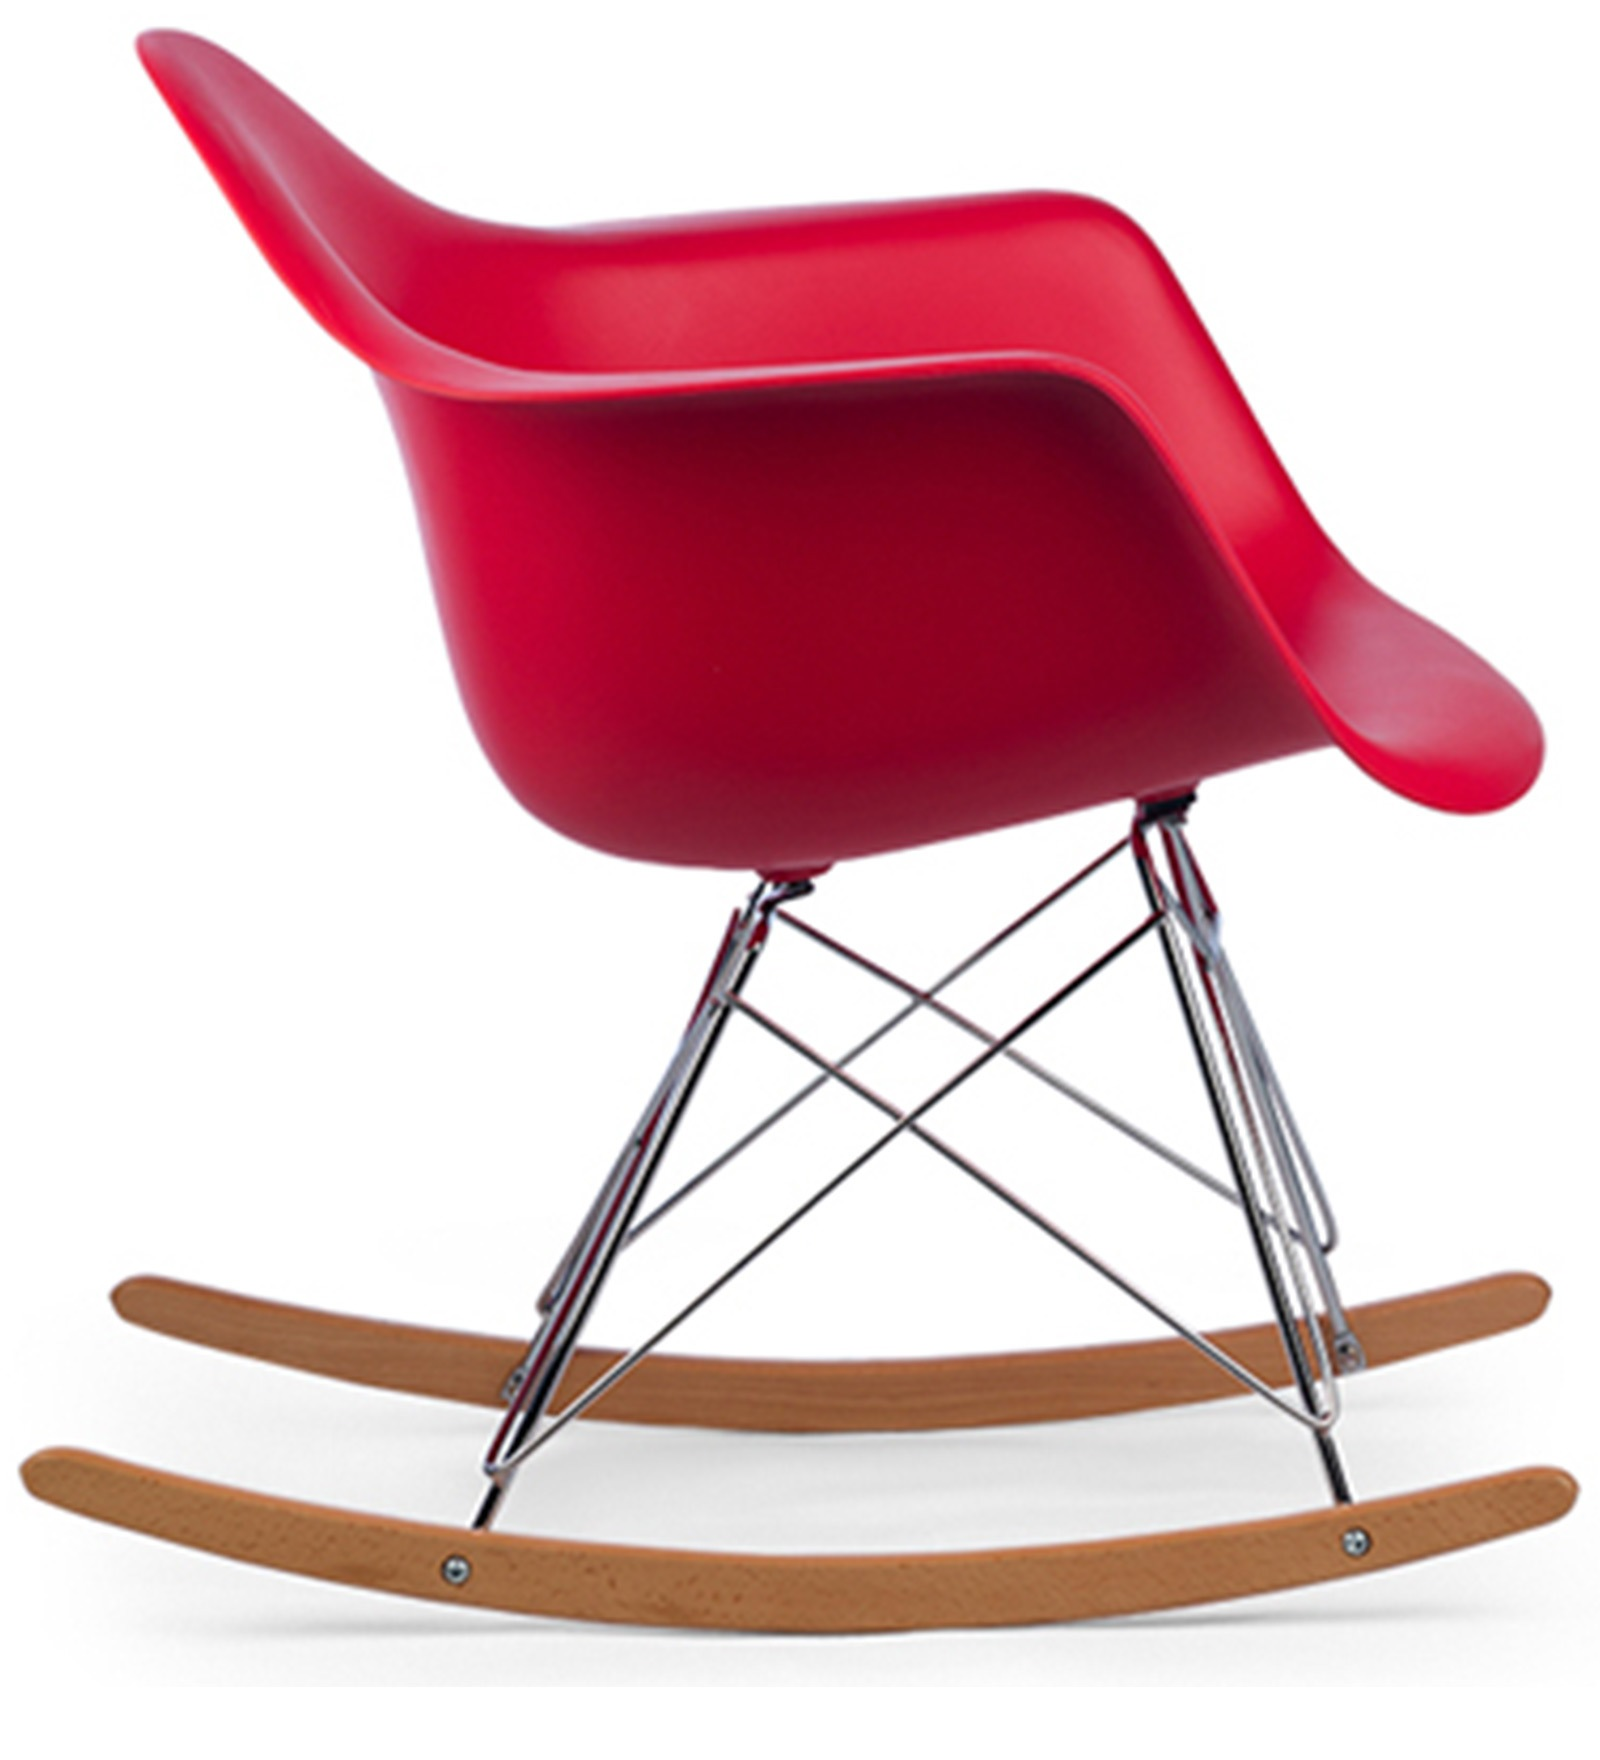Daytona Beach Club Rocking Chair in Rocking Red Colour by HomeHQ: (31, 12, 1592, 1671)
